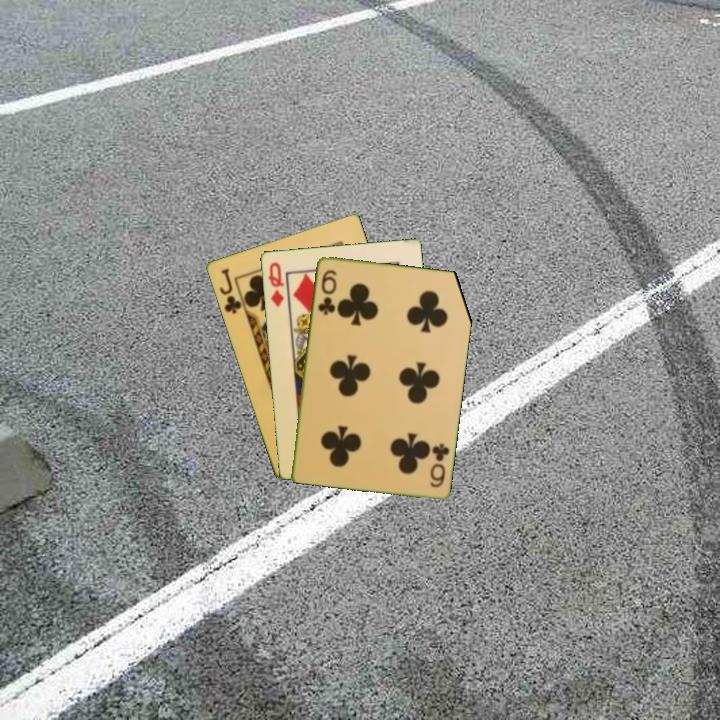6c: (426, 439, 452, 490), (314, 266, 339, 318)
Jc: (215, 265, 244, 317)
Qd: (264, 258, 287, 310)
